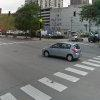Car: (35, 35, 84, 66)
